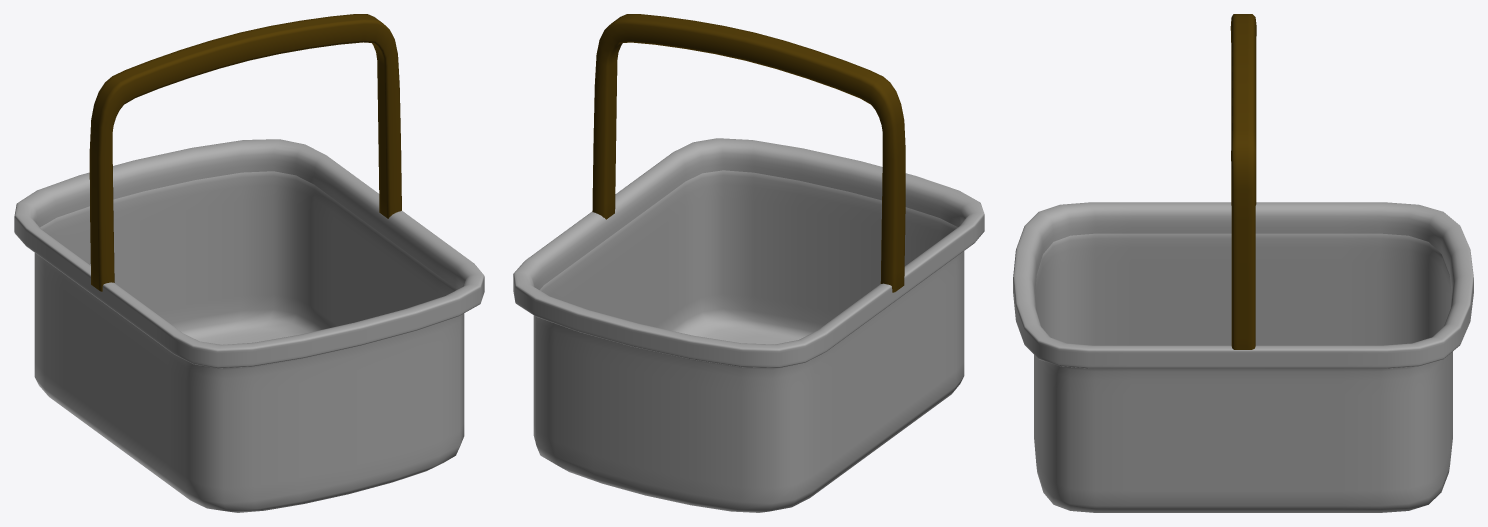
Rendered from basket.fbx.
3 renders of one model, left to right at view 1: azimuth 30°, elevation 25°; view 2: azimuth 150°, elevation 25°; view 3: azimuth 270°, elevation 25°, orthographic.
Visible parts, largest first — view 1: basket1; view 2: basket1; view 3: basket1.
Boxes of the visible parts, bbox=[...] form: basket1: bbox=[14, 14, 484, 512]; basket1: bbox=[513, 14, 984, 512]; basket1: bbox=[1013, 14, 1473, 512].
Size of the model in its own units: 2.79 by 3.41 by 3.63.
